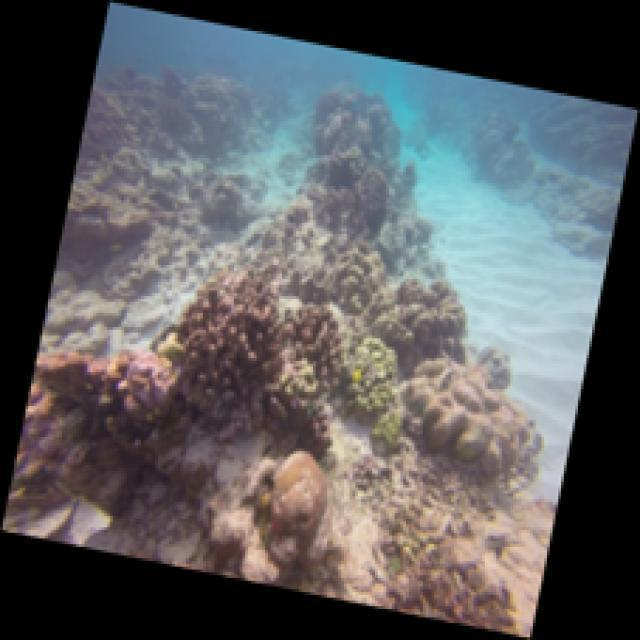Dead Coral: (402, 343, 569, 478), (302, 142, 410, 236)
